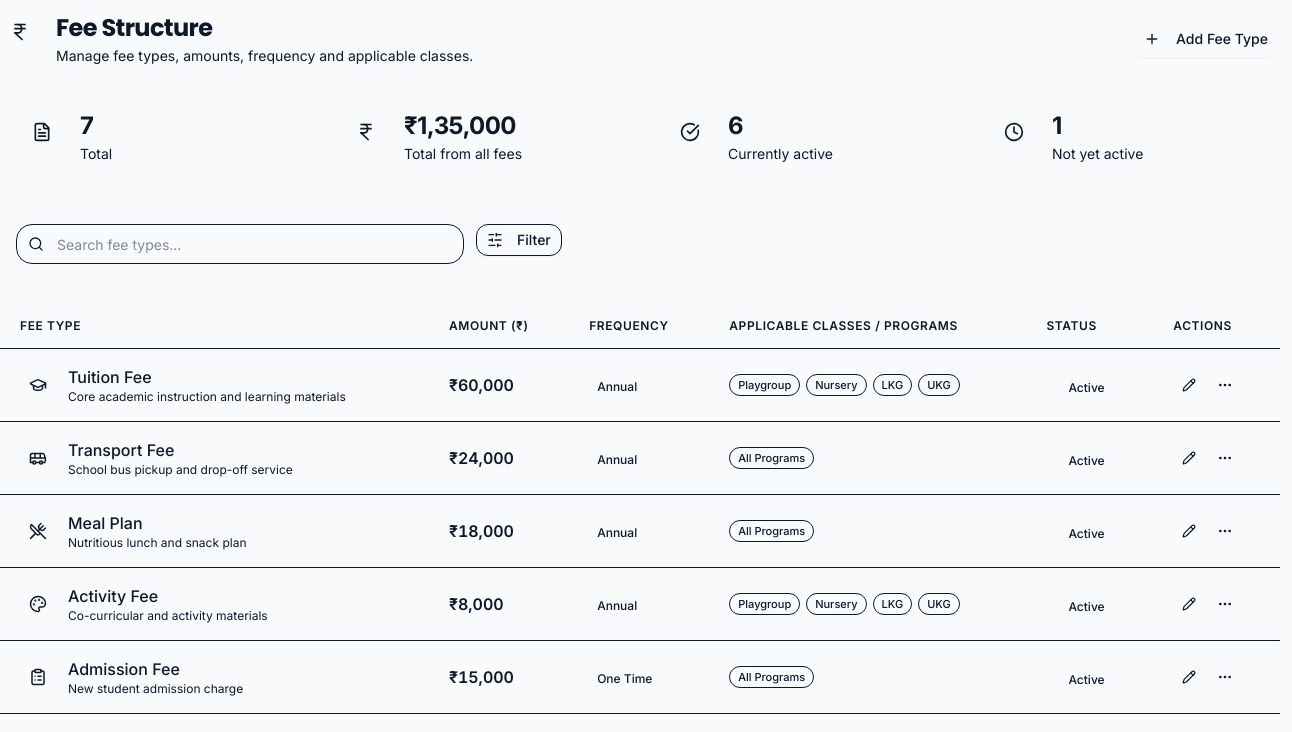
Test: FeeStructurePage › filters fee types by description when typing in search
Type "bus pickup" into the field with placeholder "Search fee types...". click: (240, 244)
box: [16,224,464,264]
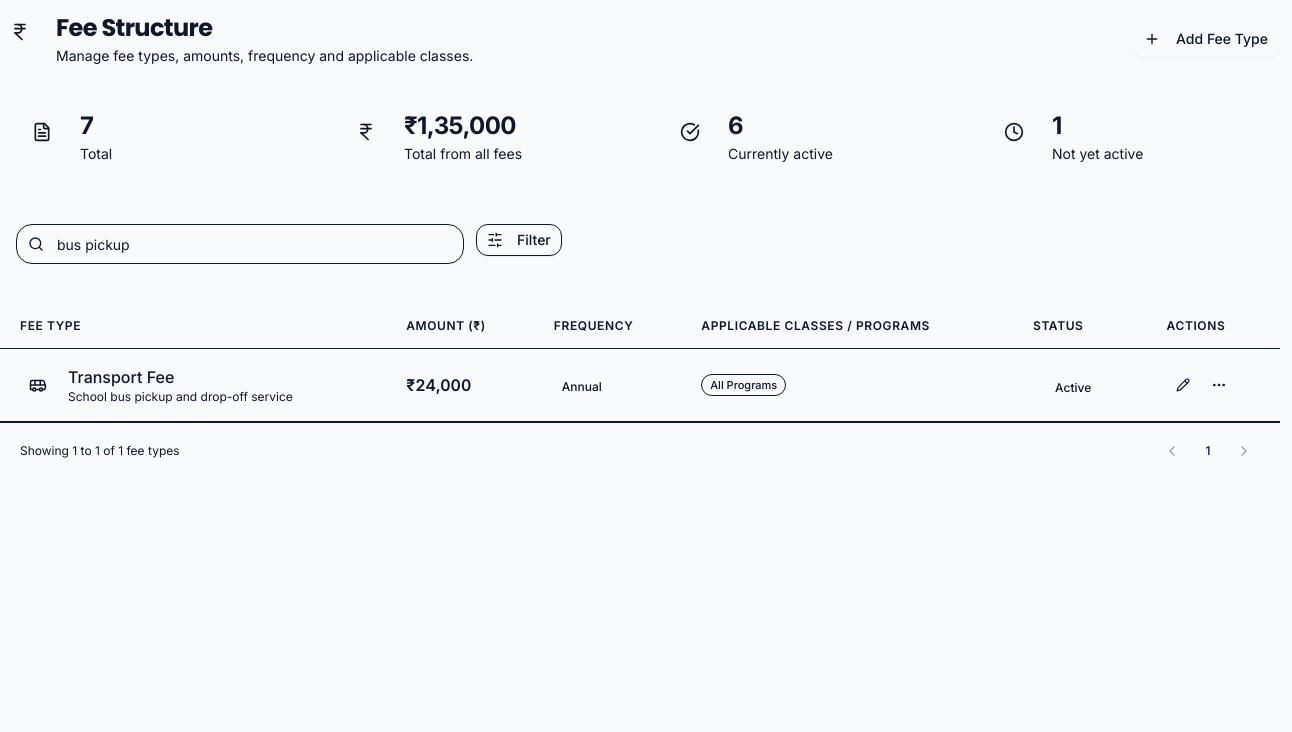
Expected: the text "Transport Fee" is shown, [68,367,174,387]
Expected: the text "Tuition Fee" is gone
